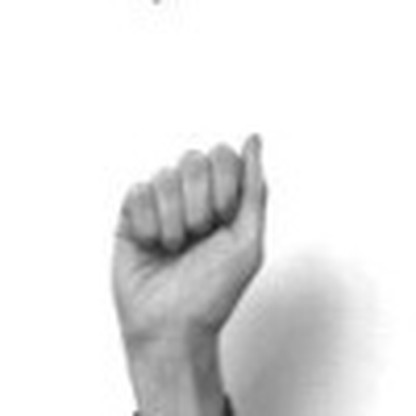a: (42, 114, 319, 414)
